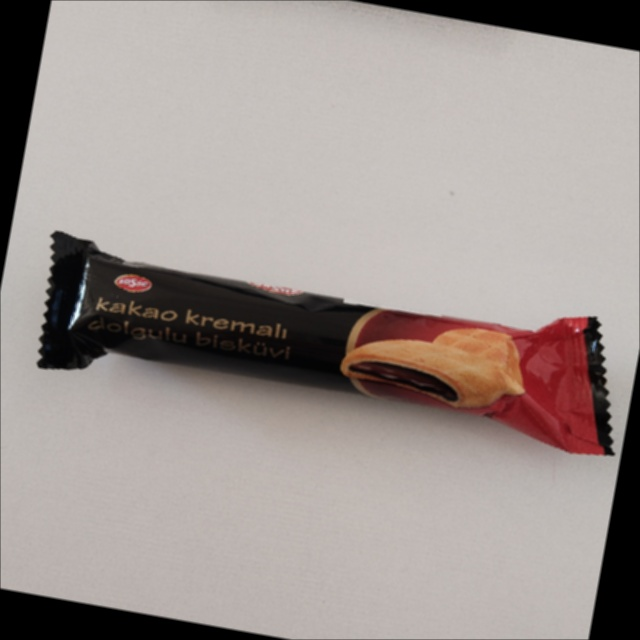susse_biskuvi: (39, 231, 610, 439)
